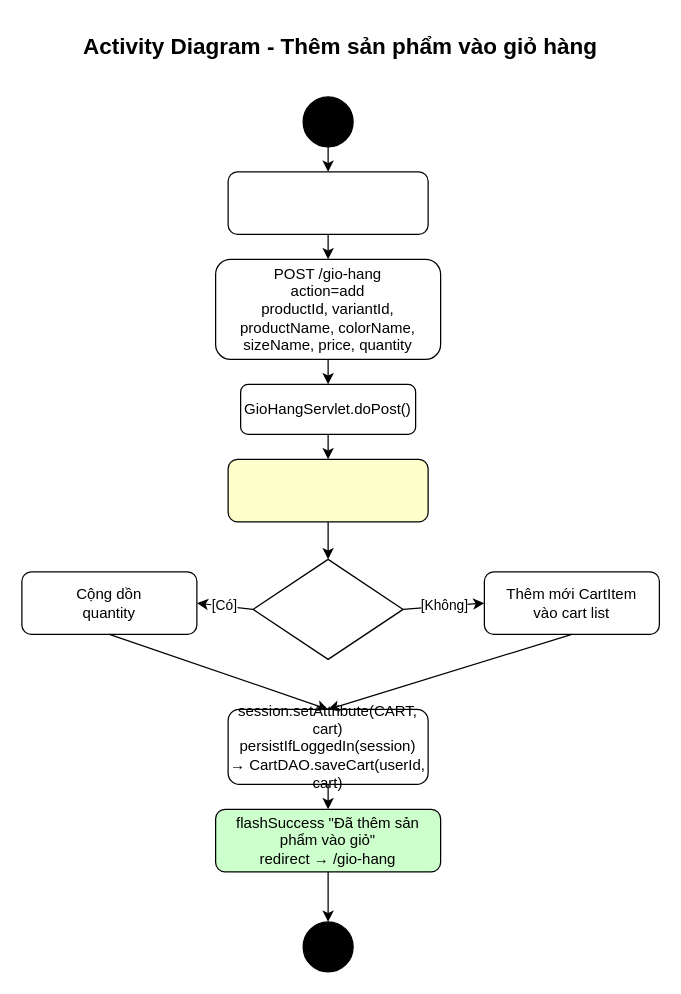
This 681x994 diagram has some shape labels left out. Here are the shapes that lost their labels. From the top down, the centre of each, then its label:
point (327, 202): User click "Thêm vào giỏ" trên /chi-tiet
point (327, 490): CartService.addToCart(session, new CartItem(...))
point (327, 608): variantId đã có trong giỏ?
